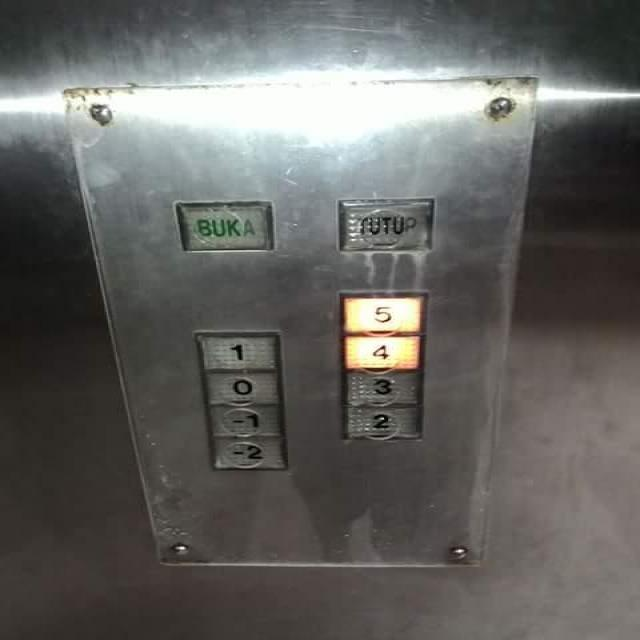-1: (202, 401, 286, 436)
-2: (205, 431, 291, 473)
0: (198, 366, 282, 405)
1: (194, 331, 278, 371)
2: (338, 400, 426, 441)
3: (337, 365, 424, 403)
4: (336, 330, 425, 369)
5: (337, 289, 427, 333)
text: (173, 201, 272, 252), (336, 198, 432, 249)
